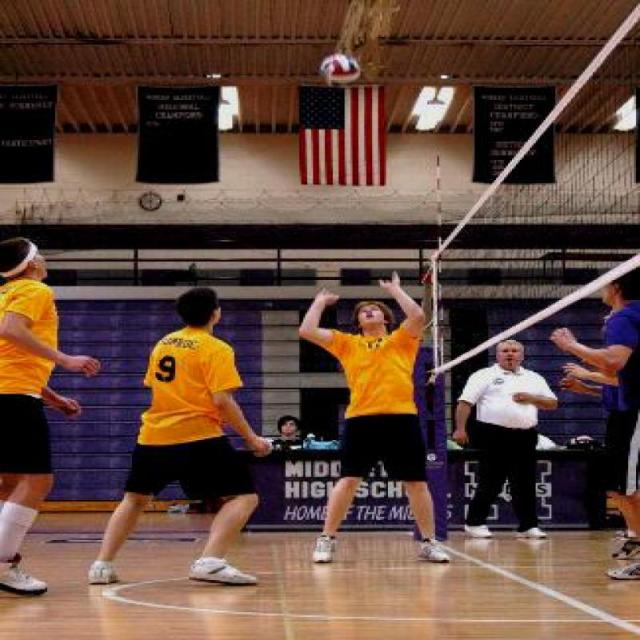volleyball: (317, 54, 370, 89)
